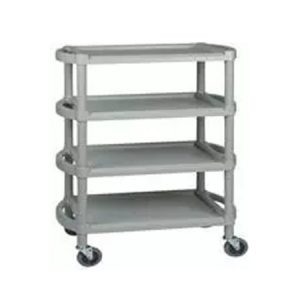Carts: (54, 41, 248, 268)
